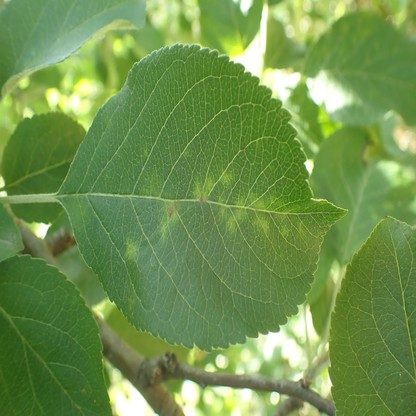scab: (62, 197, 90, 231), (158, 199, 180, 239), (228, 201, 246, 234), (194, 177, 212, 202), (247, 192, 265, 211), (273, 215, 288, 235), (126, 236, 138, 258), (269, 196, 287, 210), (217, 199, 228, 221), (256, 219, 269, 237), (221, 170, 233, 186), (128, 292, 135, 315), (299, 221, 304, 236)
